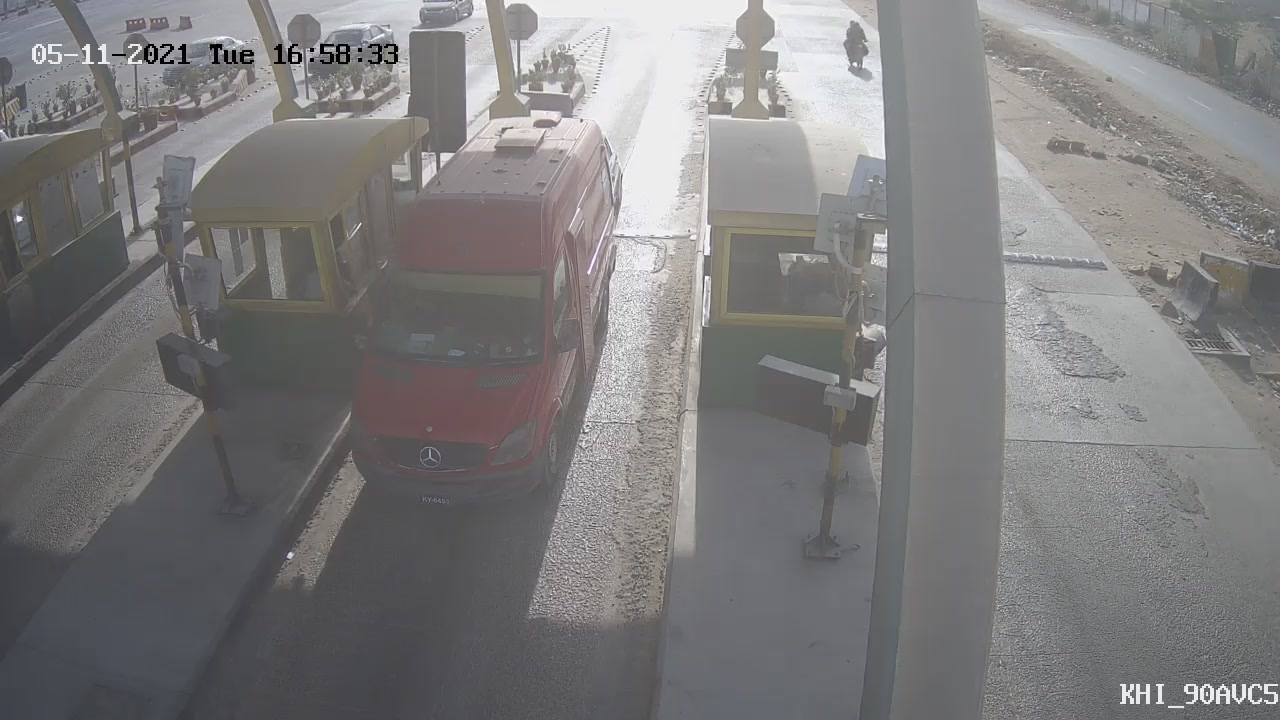F2: (305, 91, 650, 536)
